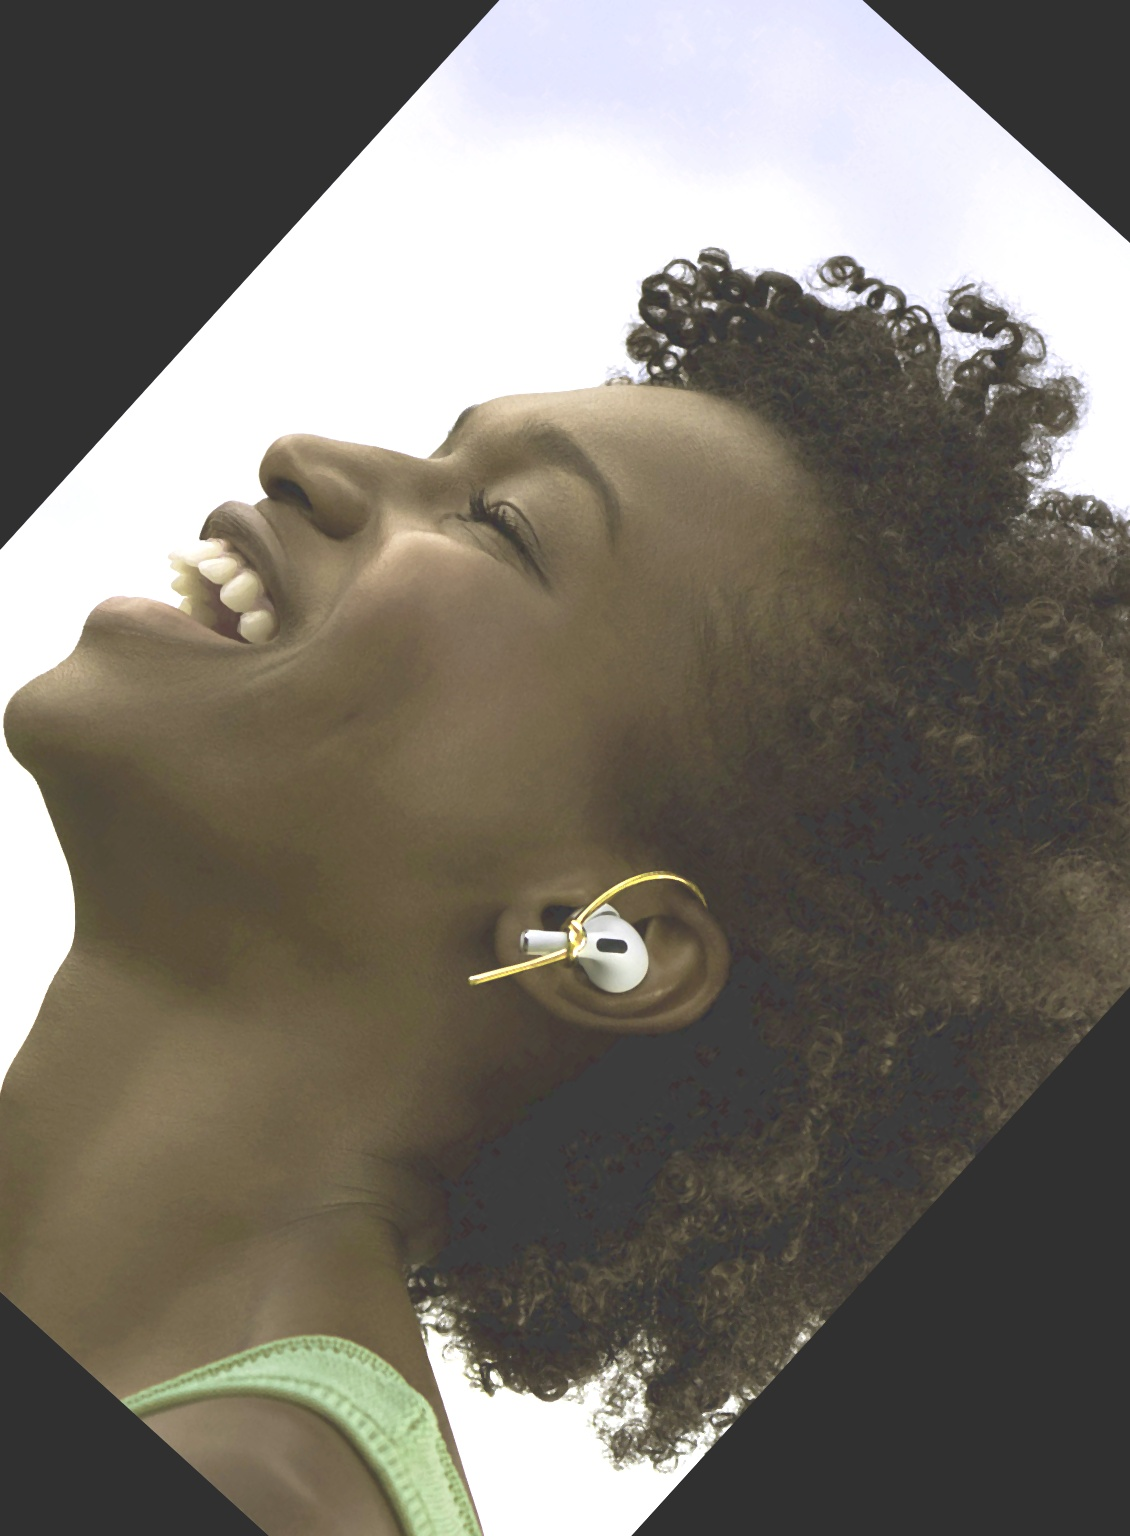earphone: (477, 809, 760, 1091)
